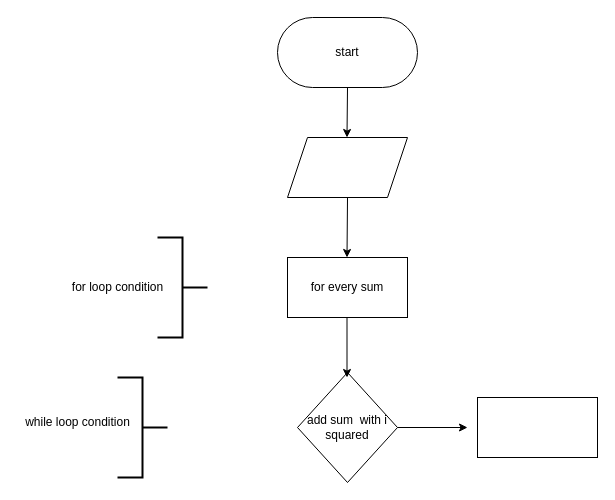
Some shapes in this 615 by 500 pixel diagram are drawn without their labels. The shapes that lost their labels are listed below. From the top down, each one's box as (x1, y1, x2, y2) in pixels, then its label:
(286, 136, 408, 198): input i
(476, 396, 598, 458): print sum
